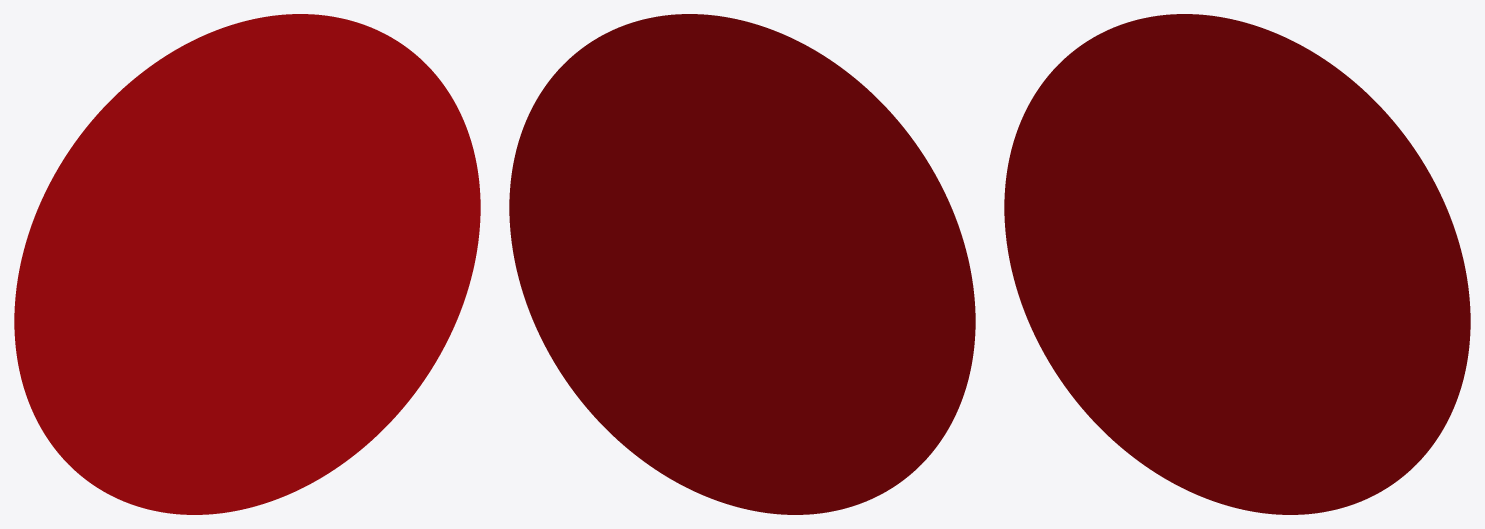
File: Clock.fbx
3 renders of one model, left to right at view 1: azimuth 30°, elevation 25°; view 2: azimuth 150°, elevation 25°; view 3: azimuth 330°, elevation 25°, orthographic.
Parts seen in each view (by area): view 1: Circle.001; view 2: Circle.001; view 3: Circle.001.
Part boxes in pixels (left/top/right/bottom): Circle.001: left=14, top=14, right=480, bottom=514; Circle.001: left=509, top=14, right=975, bottom=514; Circle.001: left=1004, top=14, right=1470, bottom=514.
Bounding box in the file's own units: 2 × 2 × 0.
